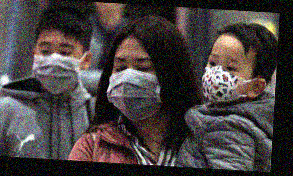with_mask: (107, 51, 165, 121), (32, 37, 83, 94), (201, 50, 252, 104)
